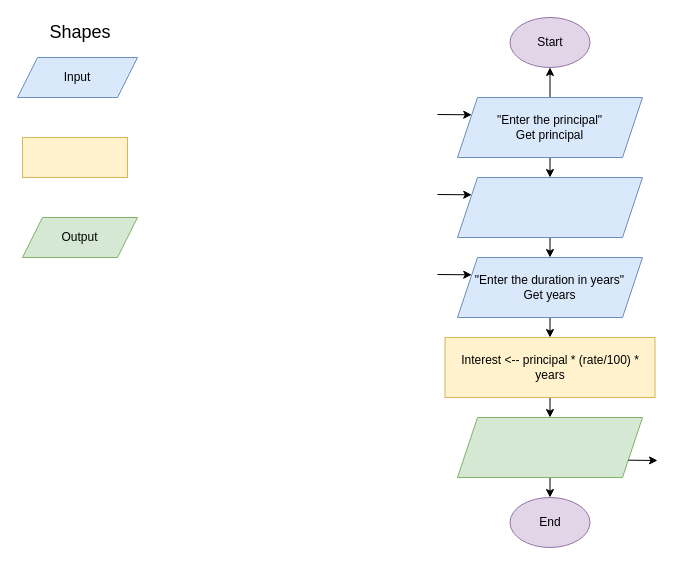
The diagram is 683 pixels wide and 565 high, and some of its shapes have lost their labels. Here are the shapes that lost their labels. From the top down, the box of each, then its label:
(22, 136, 128, 178): Assignment
(456, 176, 642, 238): "Enter the interest rate" Get rate
(456, 416, 642, 478): "The interest you will accumulate is " + interest + "dirhams"
